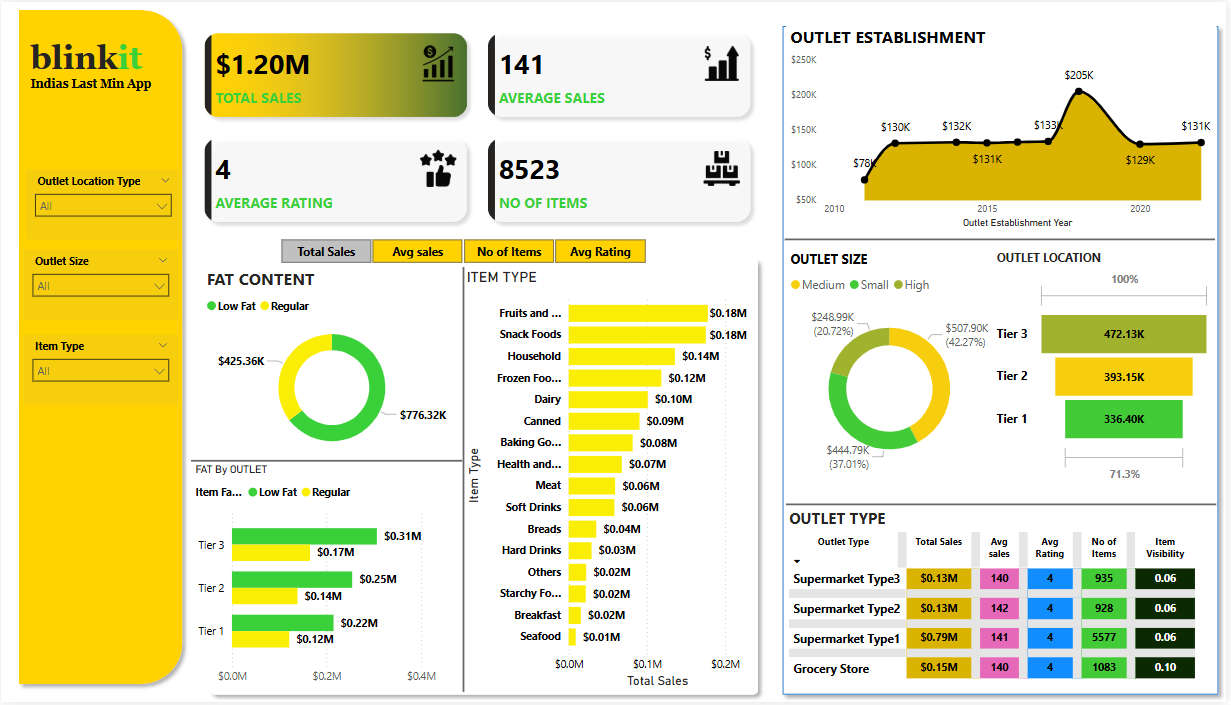

What the dashboard file says about the page in this screenshot:
{"tool":"powerbi","page":{"name":"Page 1","canvas":[1400,800],"ordinal":0},"visuals":[{"type":"shape","box":[11.7,0,205,788.3],"z":0},{"type":"textbox","box":[28.3,36.7,170,83.3],"z":1000},{"type":"cardVisual","fields":{"Data":["BlinkIT Grocery Data.Total Sales","BlinkIT Grocery Data.Avg sales","BlinkIT Grocery Data.Avg Rating","BlinkIT Grocery Data.No of Items"]},"box":[215,18,658,250],"z":2000},{"type":"shape","title":"Fat ","box":[230,284,644,516],"z":3000},{"type":"donutChart","title":"FAT CONTENT","fields":{"Y":["BlinkIT Grocery Data.Total Sales"],"Category":["BlinkIT Grocery Data.Item Fat Content"]},"box":[230,303.3,296.7,223.3],"z":4000},{"type":"slicer","fields":{"Values":["Matrix.Matrix"]},"box":[294,264,466,40],"z":5000},{"type":"clusteredBarChart","title":"FAT By OUTLET","fields":{"Y":["BlinkIT Grocery Data.Total Sales"],"Category":["BlinkIT Grocery Data.Outlet Location Type"],"Series":["BlinkIT Grocery Data.Item Fat Content"]},"box":[216.7,526.7,285,261.7],"z":6000},{"type":"shape","box":[216,476,286,102],"z":7000},{"type":"shape","box":[520,283.3,16.7,516.7],"z":8000},{"type":"barChart","title":"ITEM TYPE","fields":{"Y":["BlinkIT Grocery Data.Total Sales"],"Category":["BlinkIT Grocery Data.Item Type"]},"box":[528,304,346,496],"z":9000},{"type":"shape","box":[884,18,516,782],"z":10000},{"type":"lineChart","title":"OUTLET ESTABLISHMENT","fields":{"Category":["BlinkIT Grocery Data.Outlet Establishment Year"],"Y":["BlinkIT Grocery Data.Total Sales"]},"box":[896.7,26.7,491.7,236.7],"z":11000},{"type":"donutChart","title":"OUTLET SIZE","fields":{"Y":["BlinkIT Grocery Data.Total Sales"],"Category":["BlinkIT Grocery Data.Outlet Size"]},"box":[896.7,283.3,236.7,268.3],"z":11001},{"type":"shape","box":[1133.3,271.7,21.7,516.7],"z":11002},{"type":"funnel","title":"OUTLET LOCATION","fields":{"Y":["Sum(BlinkIT Grocery Data.Sales)"],"Category":["BlinkIT Grocery Data.Outlet Location Type"]},"box":[1133.3,283.3,255,273.3],"z":11003},{"type":"shape","box":[896.7,570,491.7,8.3],"z":11004},{"type":"pivotTable","title":"OUTLET TYPE","fields":{"Rows":["BlinkIT Grocery Data.Outlet Type"],"Values":["BlinkIT Grocery Data.Total Sales","BlinkIT Grocery Data.Avg sales","BlinkIT Grocery Data.Avg Rating","BlinkIT Grocery Data.No of Items","Avg(BlinkIT Grocery Data.Item Visibility)"]},"box":[895,578.3,491.7,210],"z":11005},{"type":"shape","box":[895,266.7,491.7,8.3],"z":11006},{"type":"slicer","fields":{"Values":["BlinkIT Grocery Data.Outlet Location Type"]},"box":[28.3,191.7,176.7,80],"z":11007},{"type":"slicer","fields":{"Values":["BlinkIT Grocery Data.Outlet Size"]},"box":[25,283.3,176.7,80],"z":11008},{"type":"slicer","fields":{"Values":["BlinkIT Grocery Data.Item Type"]},"box":[25,380,176.7,80],"z":11009}]}

Visuals, with their boxes in screenshot pixels (x1, y1, x2, y2), scaled from the page's 1400x800 canvas onto the 1231x705 screenshot:
shape: <box>10,0,191,695</box>
textbox: <box>25,32,174,106</box>
cardVisual - BlinkIT Grocery Data.Total Sales x BlinkIT Grocery Data.Avg sales: <box>189,16,768,236</box>
"Fat " shape: <box>202,250,768,704</box>
"FAT CONTENT" donutChart: <box>202,267,463,464</box>
slicer - Matrix.Matrix: <box>259,233,668,268</box>
"FAT By OUTLET" clusteredBarChart: <box>191,464,441,695</box>
shape: <box>190,419,441,509</box>
shape: <box>457,250,472,704</box>
"ITEM TYPE" barChart: <box>464,268,768,704</box>
shape: <box>777,16,1230,704</box>
"OUTLET ESTABLISHMENT" lineChart: <box>788,24,1221,232</box>
"OUTLET SIZE" donutChart: <box>788,250,997,486</box>
shape: <box>996,239,1016,695</box>
"OUTLET LOCATION" funnel: <box>996,250,1221,491</box>
shape: <box>788,502,1221,510</box>
"OUTLET TYPE" pivotTable: <box>787,510,1219,695</box>
shape: <box>787,235,1219,242</box>
slicer - BlinkIT Grocery Data.Outlet Location Type: <box>25,169,180,239</box>
slicer - BlinkIT Grocery Data.Outlet Size: <box>22,250,177,320</box>
slicer - BlinkIT Grocery Data.Item Type: <box>22,335,177,405</box>
